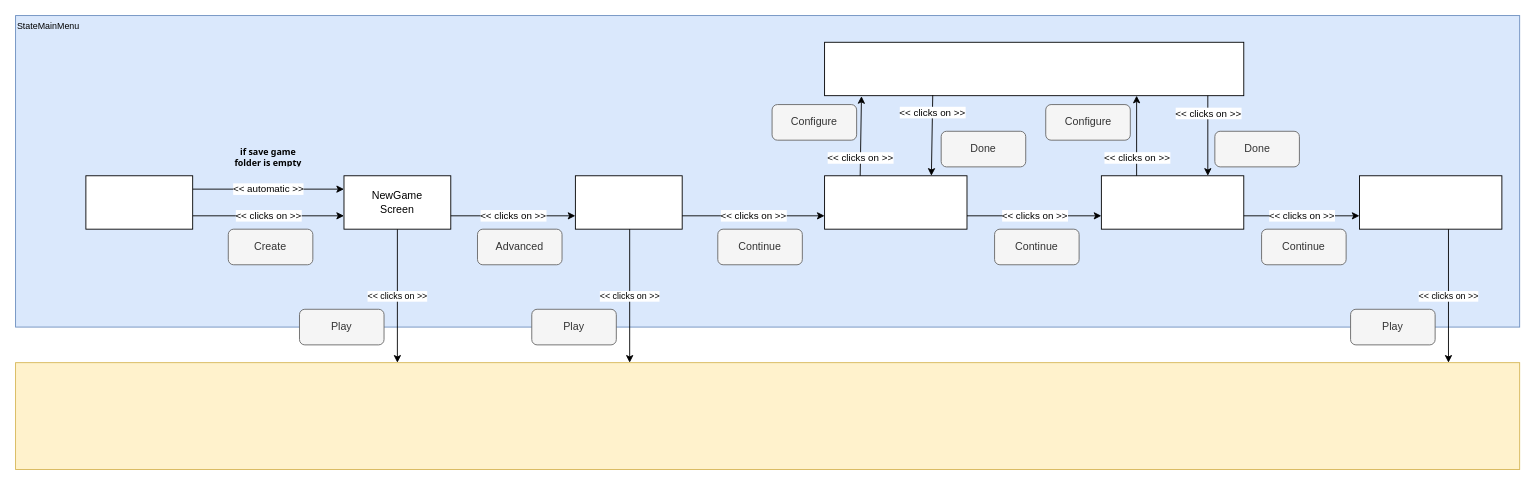
Image size: 1535x485. Some labels were removed from this diagram. The shapes that lost their labels are listed below. From the top down, each one's centre as x and y in pixels, then its label:
At pixel 1034 68: "WorldSetup Screen".
At pixel 139 202: "SelectGame Screen".
At pixel 628 202: "AdvancedGameSetup Screen".
At pixel 895 202: "UniverseSetup Screen".
At pixel 1172 202: "WorldPreGeneration Screen".
At pixel 1430 202: "StartPlaying Screen".
At pixel 767 415: "StateLoading".
